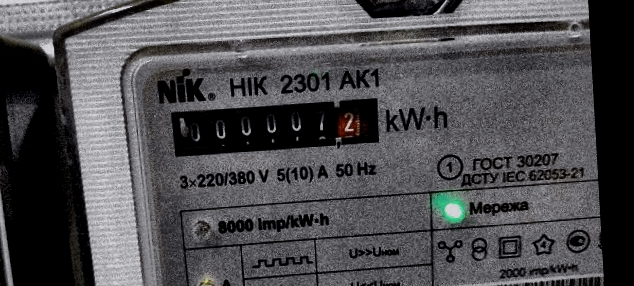0: (187, 118, 202, 143), (263, 111, 279, 134), (238, 113, 253, 137), (288, 108, 303, 132), (213, 117, 227, 139)
2: (341, 109, 356, 133)
7: (314, 107, 328, 131)
screen: (160, 86, 390, 165)
